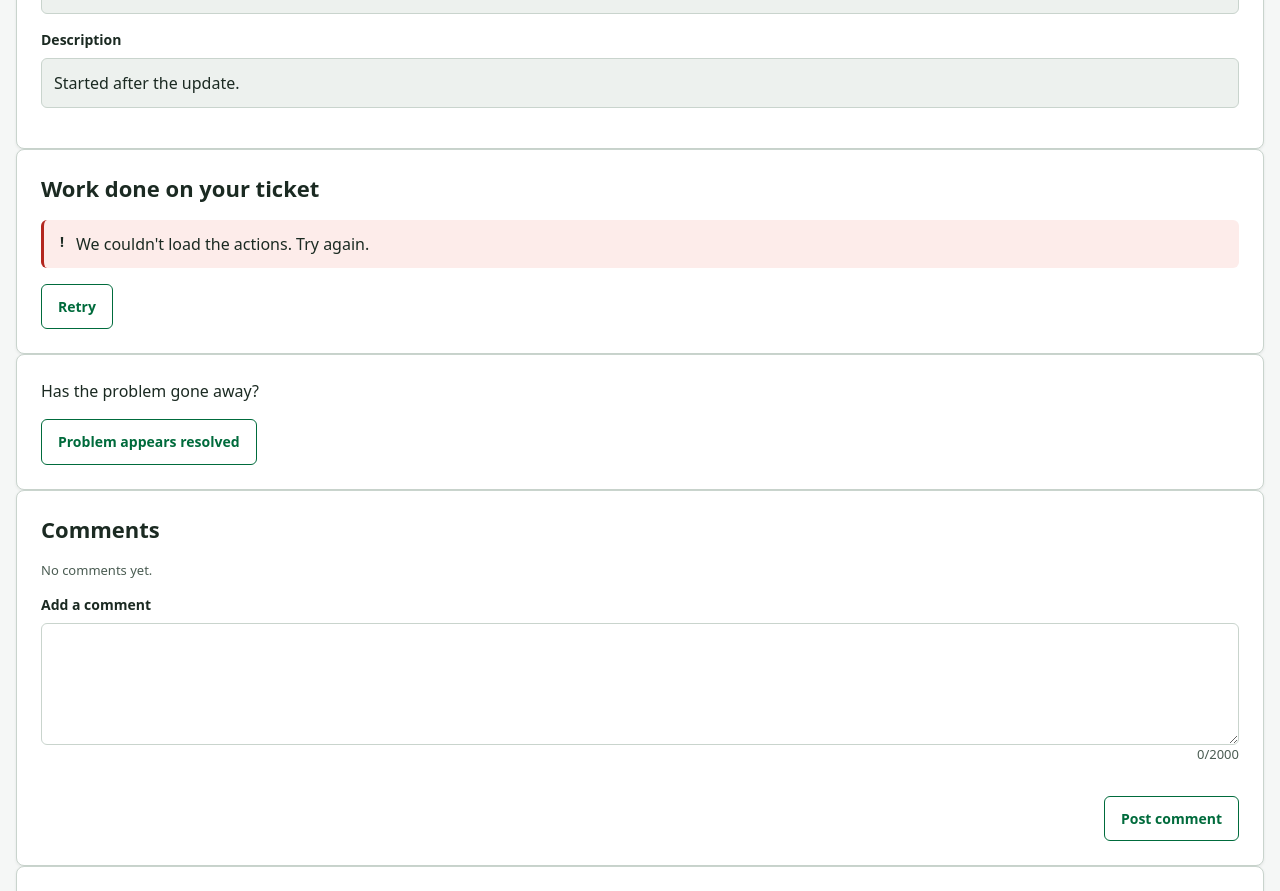
it: UI-36 (AC-26) - appears resolved › confirming records the indication, shows the indicator, and hides the button
(page scrolled)
Expected: the element with test id "comments-card" is shown, [16,490,1264,866]
Click the button with test id "btn-appears-resolved" at [149, 442], box [41,419,256,465]
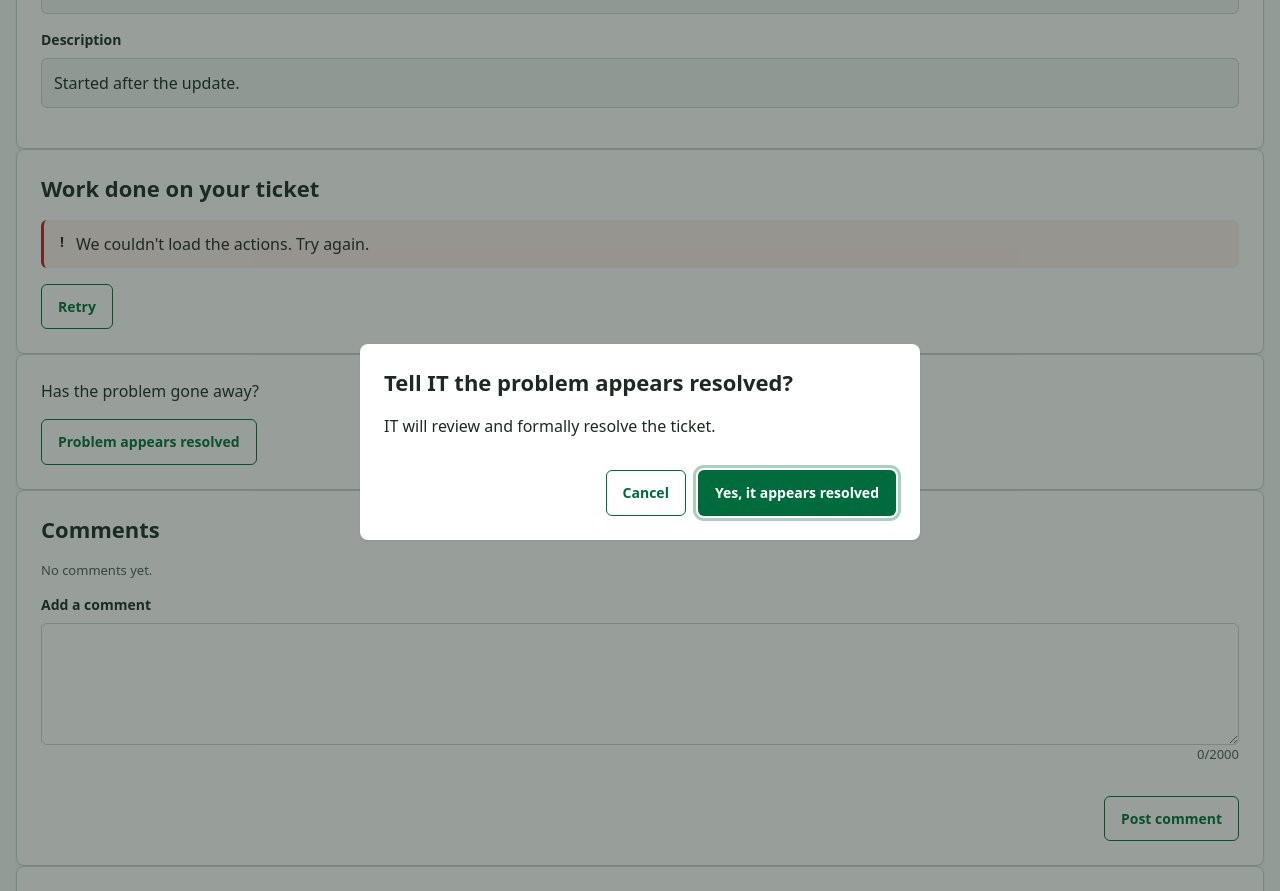
Expected: the dialog with test id "confirm-dialog" shows "Tell IT the problem appears resolved?", [384,367,793,397]
Expected: the dialog with test id "confirm-dialog" shows "IT will review and formally resolve the ticket.", [384,415,716,437]
Expected: the button with test id "btn-confirm" reads "Yes, it appears resolved"
Click the button with test id "btn-confirm" at [797, 493], box [698,470,896,516]
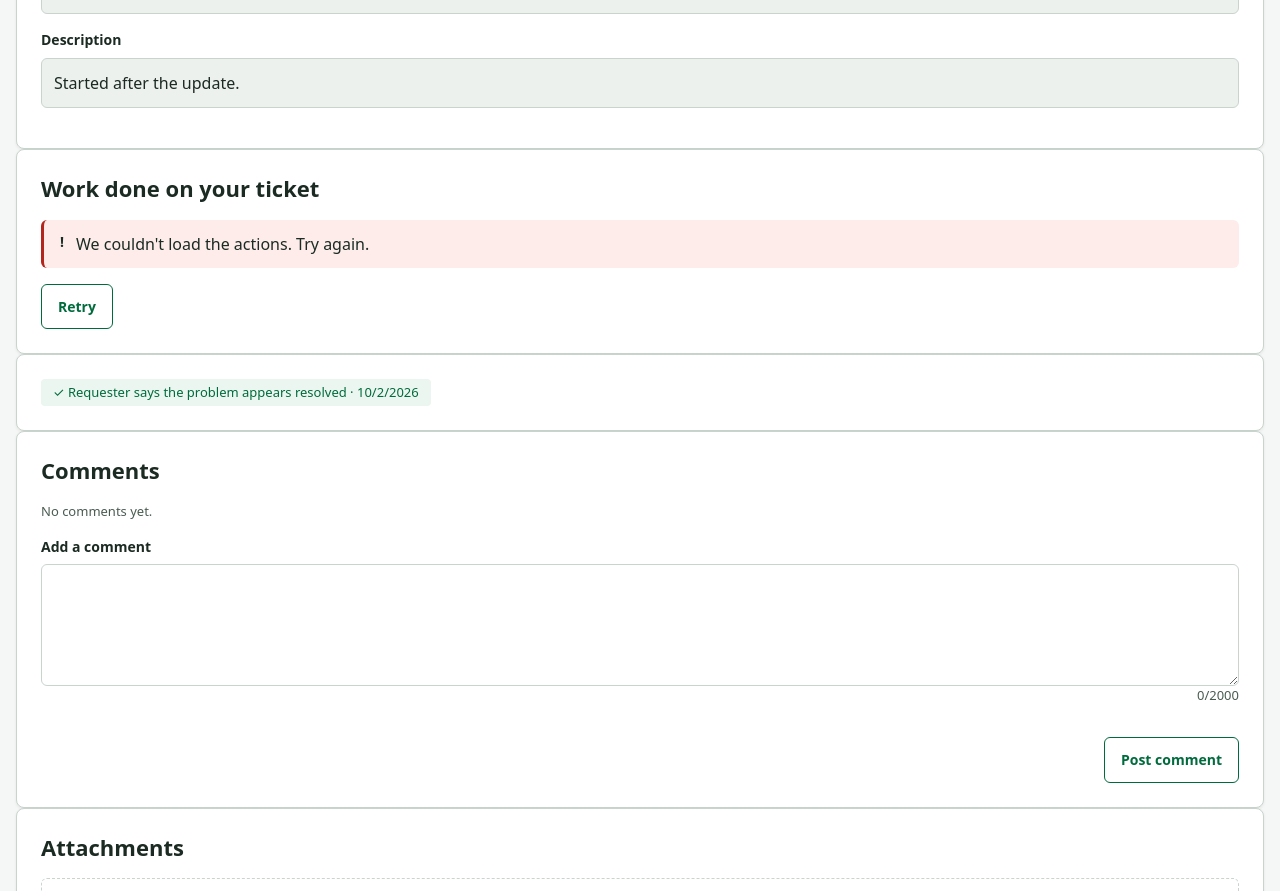
Expected: the text with test id "indicator-appears-resolved" shows "Requester says the problem appears resolved", [53,383,419,401]
Expected: the button with test id "btn-appears-resolved" is gone
Expected: the dialog with test id "confirm-dialog" is gone
